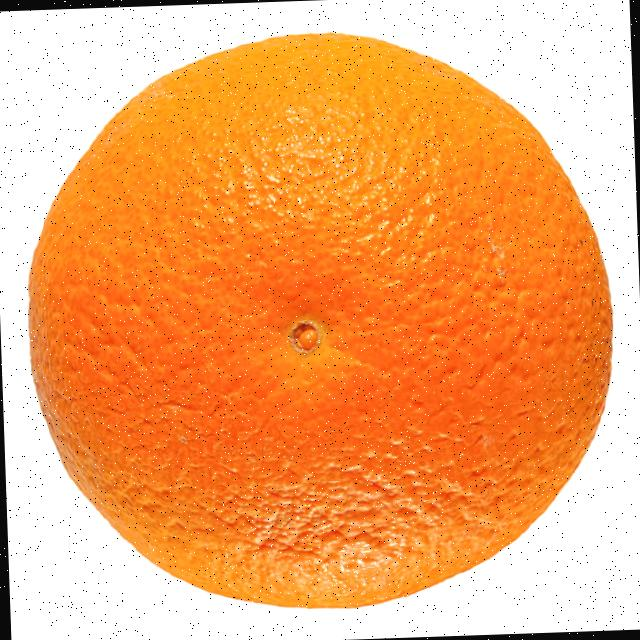Ripe: (11, 16, 629, 620)
